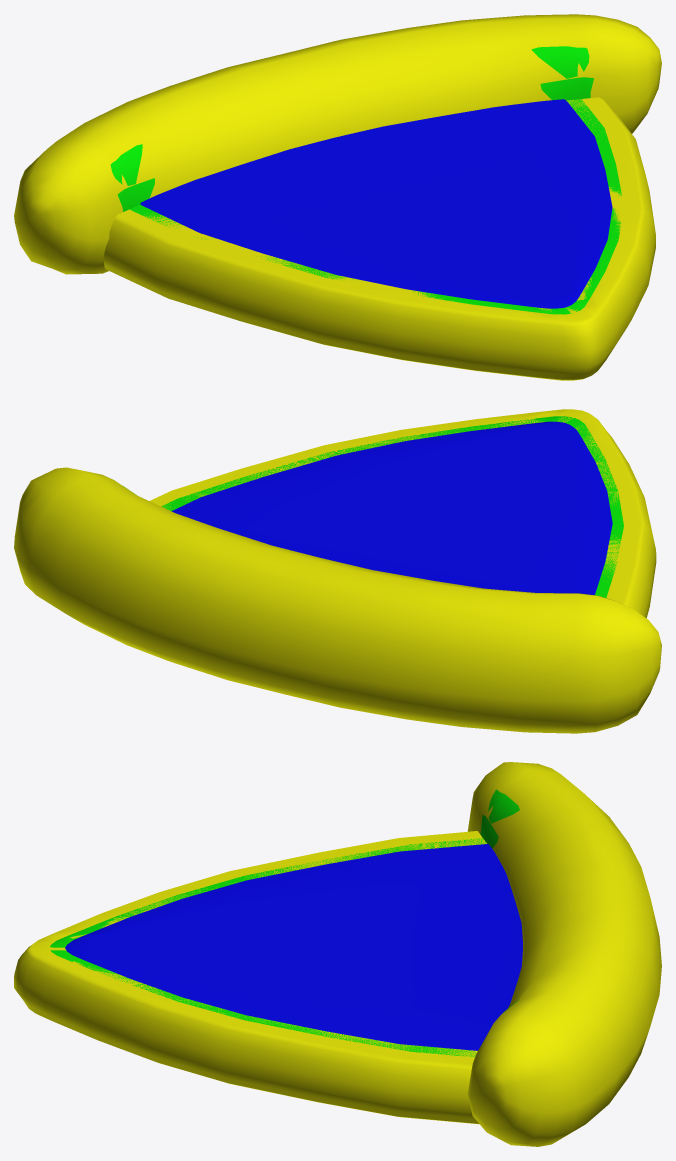
The model's file is Pizza.fbx.
3 views of the same model, one above another, from view 1: azimuth 30°, elevation 25°; view 2: azimuth 150°, elevation 25°; view 3: azimuth 270°, elevation 25° (orthographic).
Visible parts, largest first — view 1: Pizza_obj3, Pizza_obj1, Pizza_obj2; view 2: Pizza_obj3, Pizza_obj1, Pizza_obj2; view 3: Pizza_obj3, Pizza_obj1, Pizza_obj2.
Part boxes in pixels (x1,y1,x2,y2): Pizza_obj3: (14, 14, 661, 380); Pizza_obj1: (140, 99, 612, 308); Pizza_obj2: (110, 46, 621, 314); Pizza_obj3: (14, 409, 661, 733); Pizza_obj1: (171, 421, 612, 594); Pizza_obj2: (123, 416, 623, 597); Pizza_obj3: (14, 762, 661, 1146); Pizza_obj1: (65, 844, 522, 1050); Pizza_obj2: (50, 789, 519, 1056).
Size of the model in its own units: 185 by 36.38 by 164.
